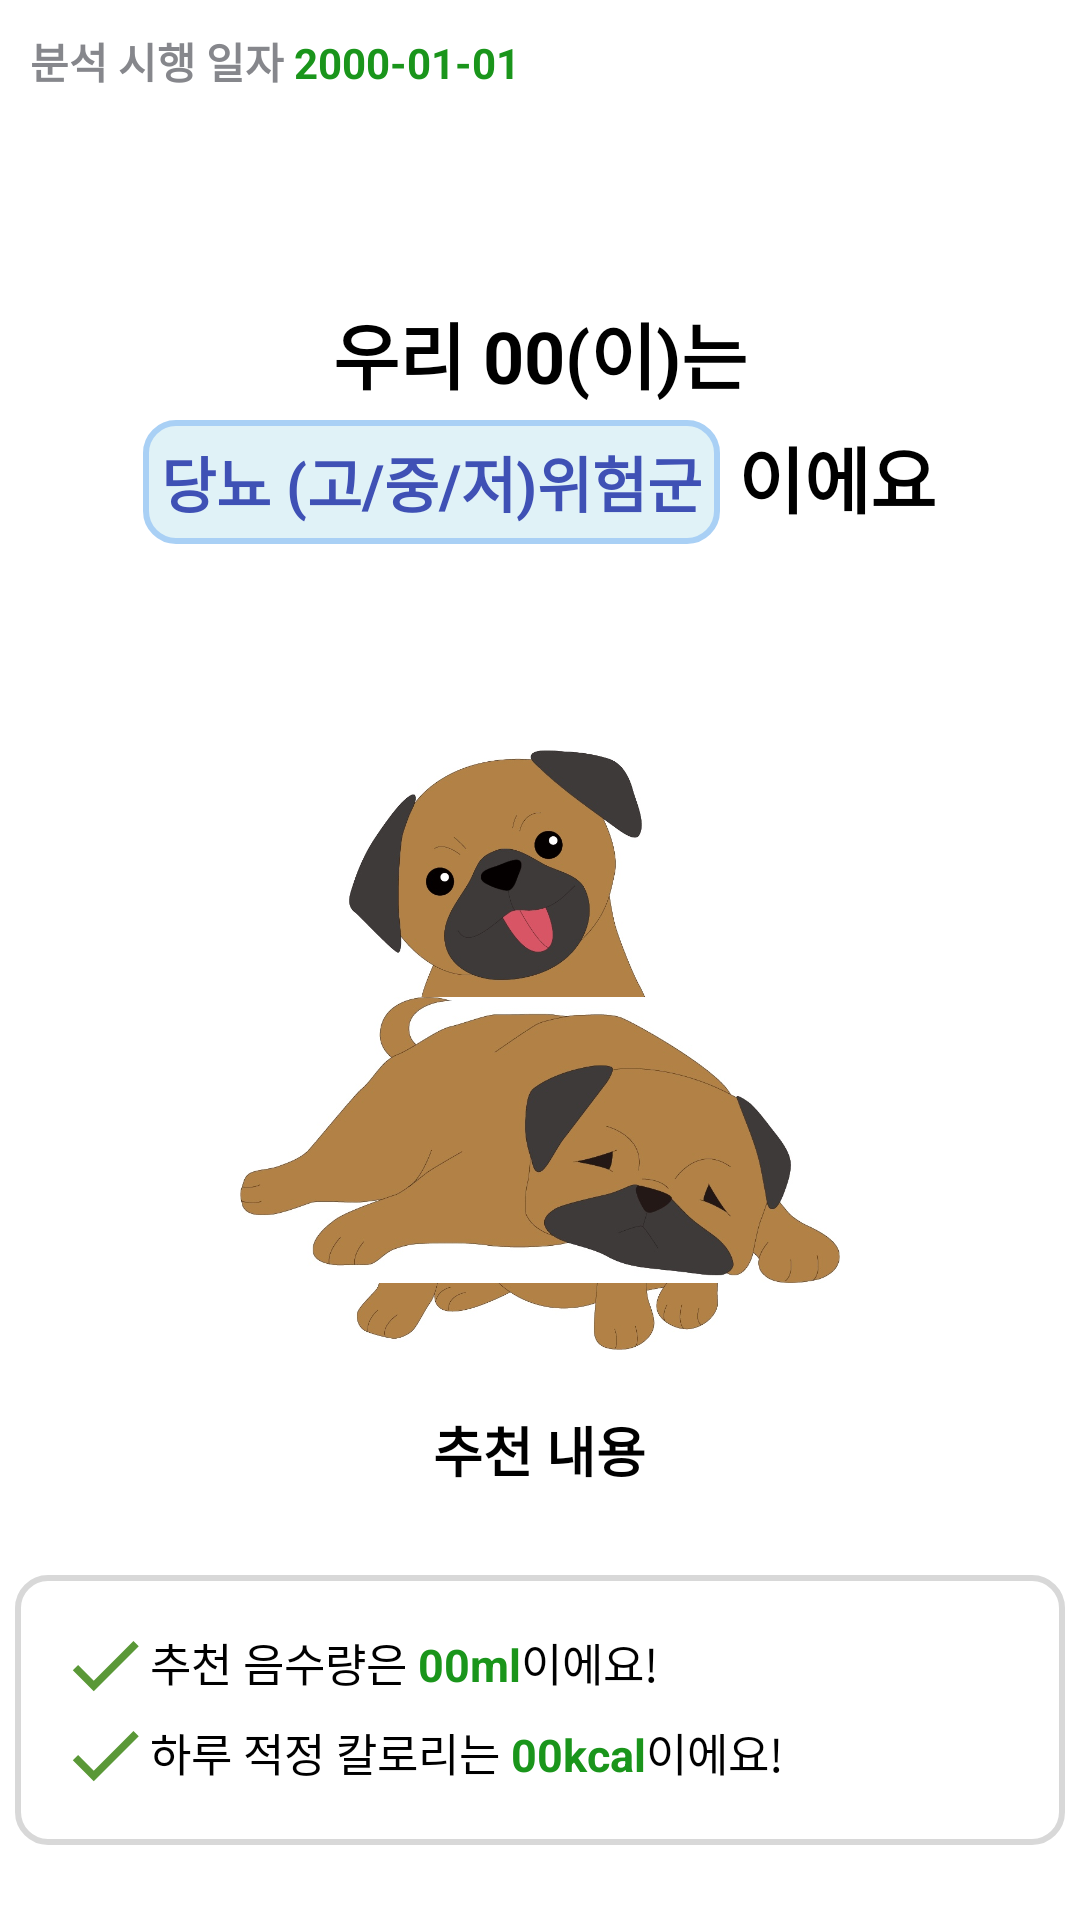

Locate icon controls on the screen. Image size 1080*1920, boxes as (x1, y1, x2, y2).
check: (73, 1641, 139, 1691), (73, 1731, 139, 1781)
